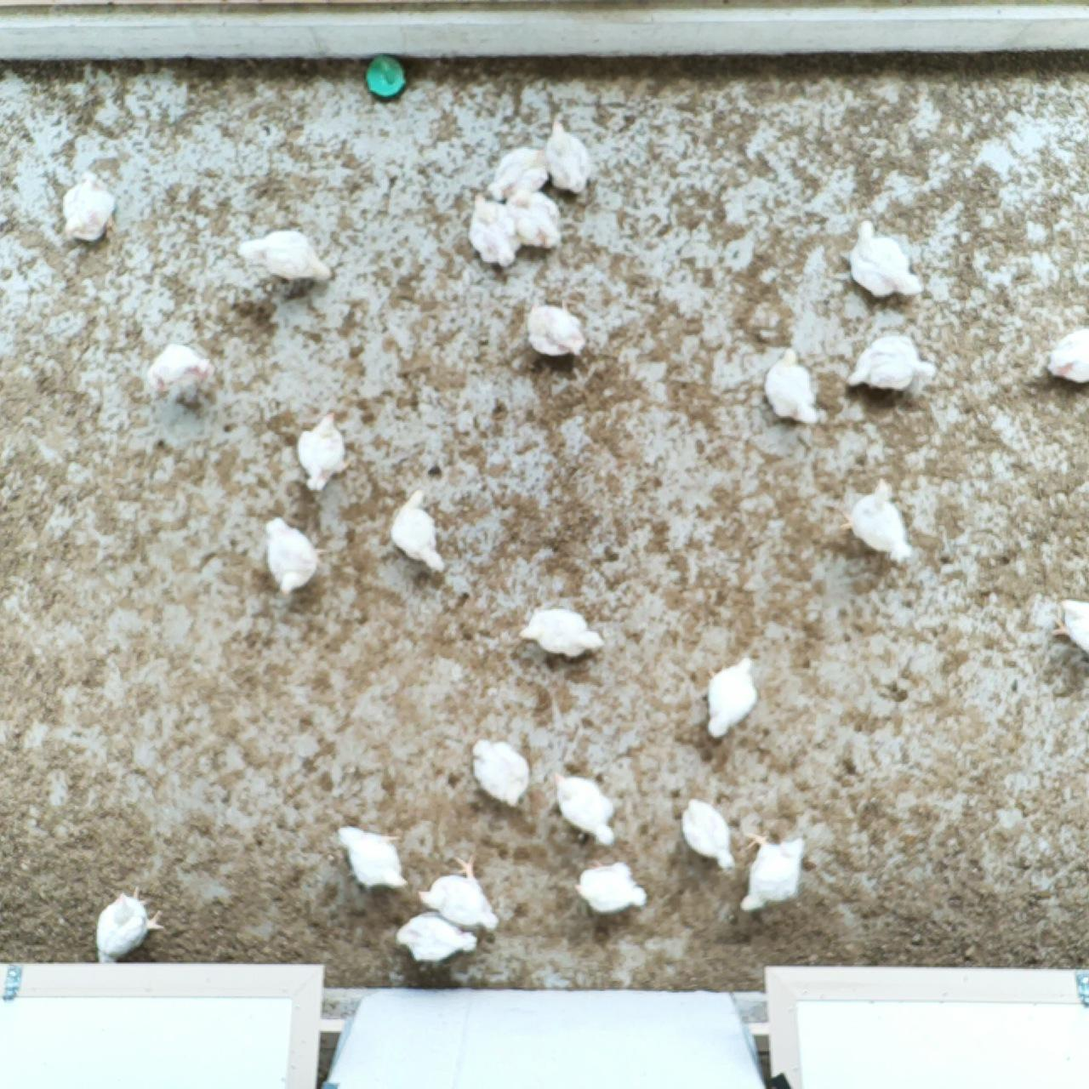chicken: (829, 474, 920, 570), (842, 215, 931, 306), (733, 825, 811, 924), (232, 222, 339, 294), (842, 326, 940, 402), (415, 851, 501, 934), (256, 511, 332, 603), (90, 881, 170, 967), (549, 764, 620, 854), (760, 343, 830, 432), (139, 337, 223, 411), (386, 485, 451, 579), (56, 165, 124, 254), (291, 404, 356, 497), (519, 292, 592, 371), (332, 822, 409, 895), (517, 604, 606, 667), (676, 791, 740, 878), (701, 653, 762, 744), (466, 734, 535, 813), (392, 908, 482, 966), (464, 191, 523, 274), (568, 856, 649, 916), (538, 116, 596, 197), (500, 185, 566, 254), (484, 145, 556, 206), (1041, 319, 1089, 385), (1047, 594, 1089, 659)
